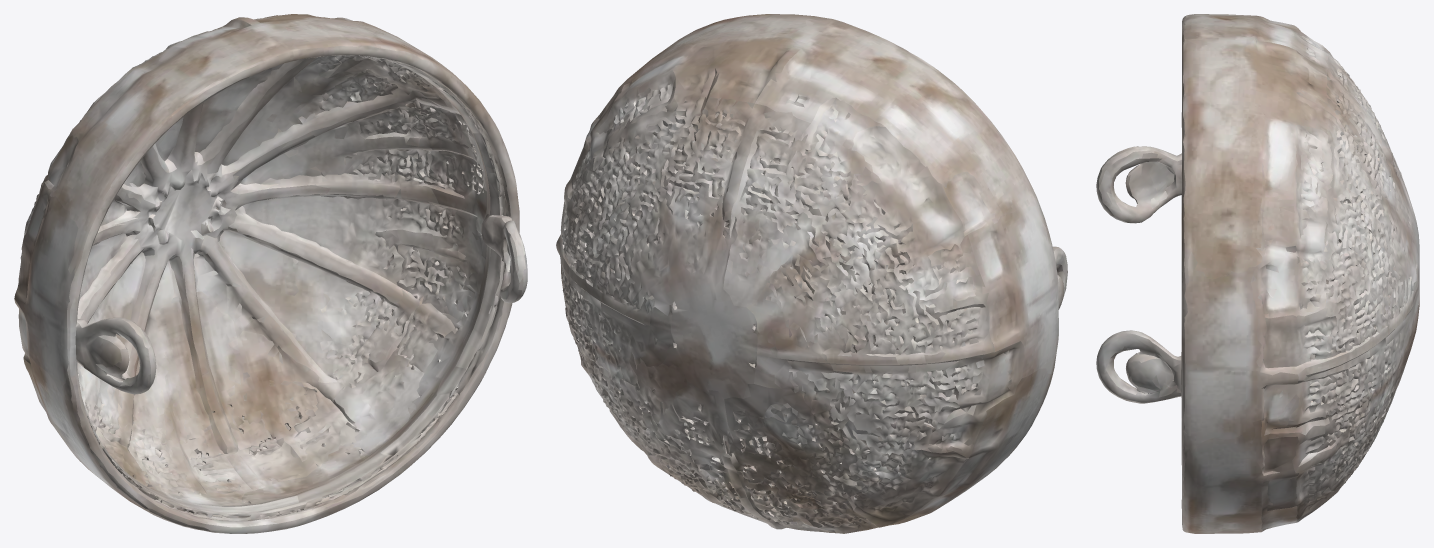
File: diatom-v18.glb
3 renders of one model, left to right at view 1: azimuth 30°, elevation 25°; view 2: azimuth 150°, elevation 25°; view 3: azimuth 270°, elevation 25°, orthographic. The views are drawn at different scales.
Parts seen in each view (by area): view 1: world; view 2: world; view 3: world.
Part boxes in pixels (x1,y1,x2,y2): world: (14,14,527,533); world: (556,14,1067,533); world: (1096,14,1419,533).
Bounding box in the file's own units: 0.00012 × 0.00012 × 7.52e-05.
Materials: 1 (1 with a texture image).
